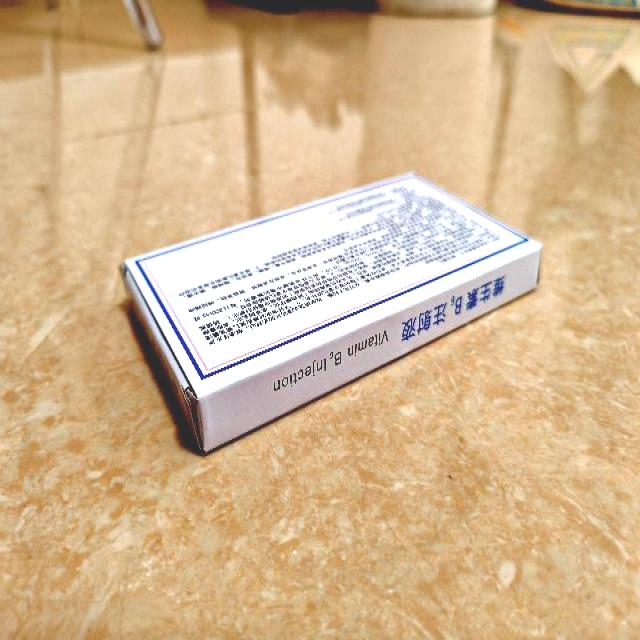box: (120, 170, 542, 452)
